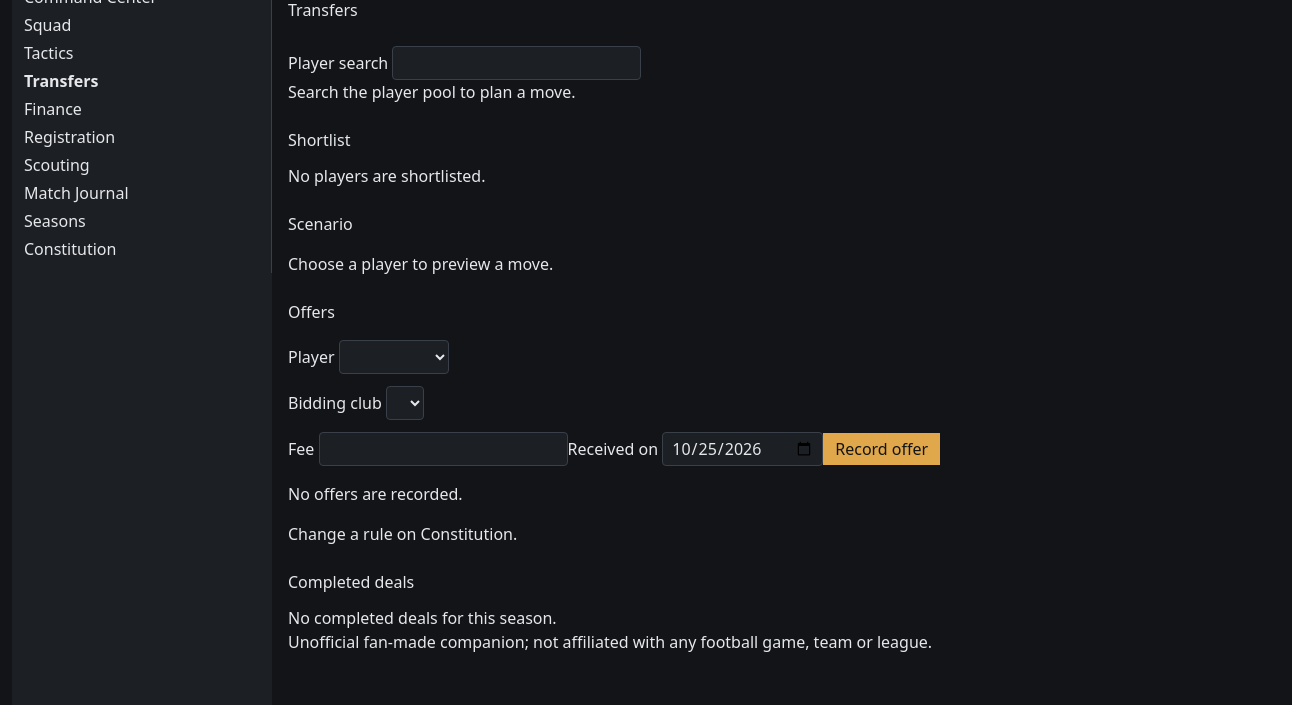
it: transfer scenario screen › blocks an incoming fee above capacity and does not record it
The image size is (1292, 705).
Type "ni" into the field labelled "Player search" at x=517, y=63, box x1=392 y1=46 x2=641 y2=80
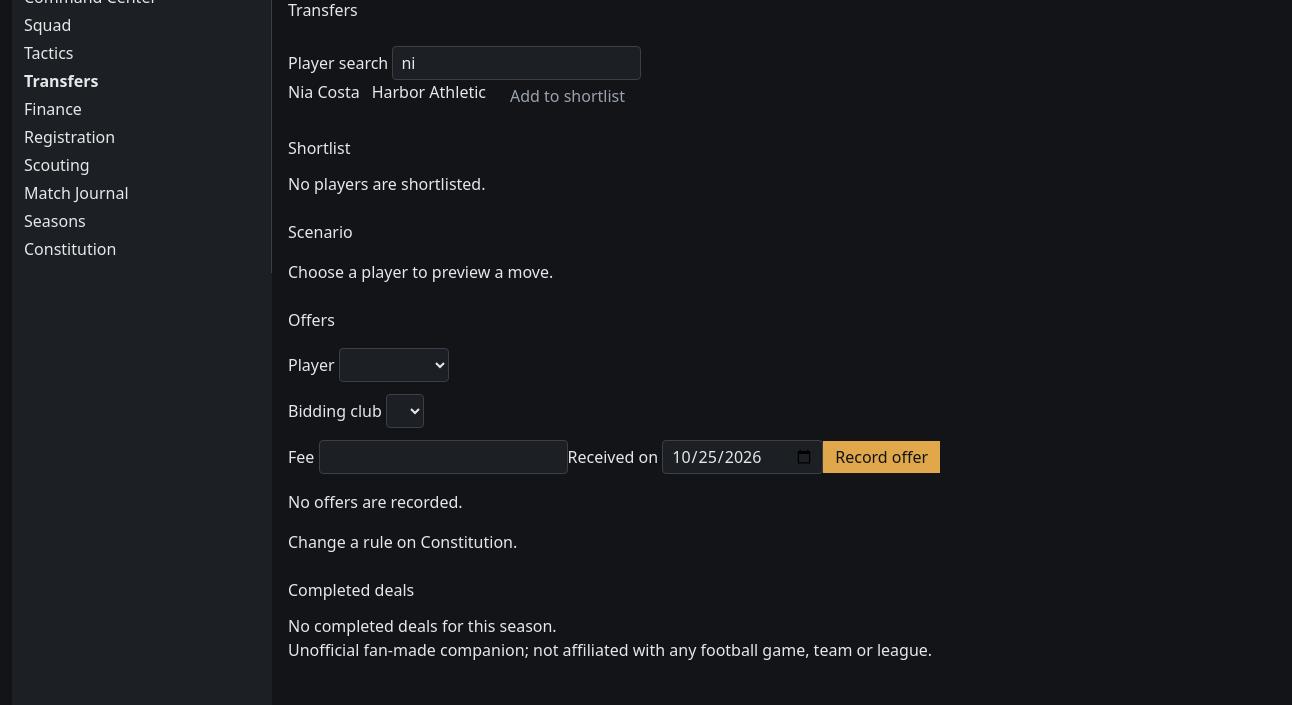
Click the button "Add to shortlist" at x=568, y=96, box x1=498 y1=80 x2=637 y2=112
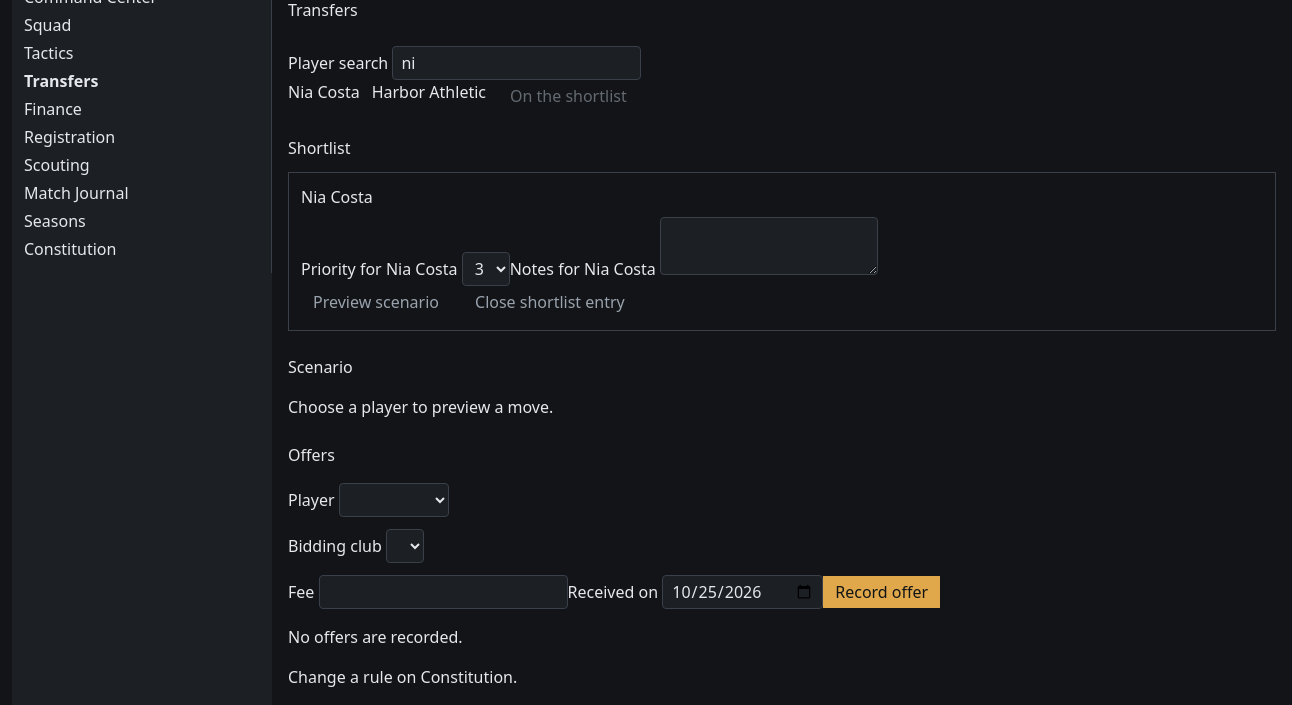
Click the button "Preview scenario" at x=376, y=302, box x1=301 y1=286 x2=451 y2=318
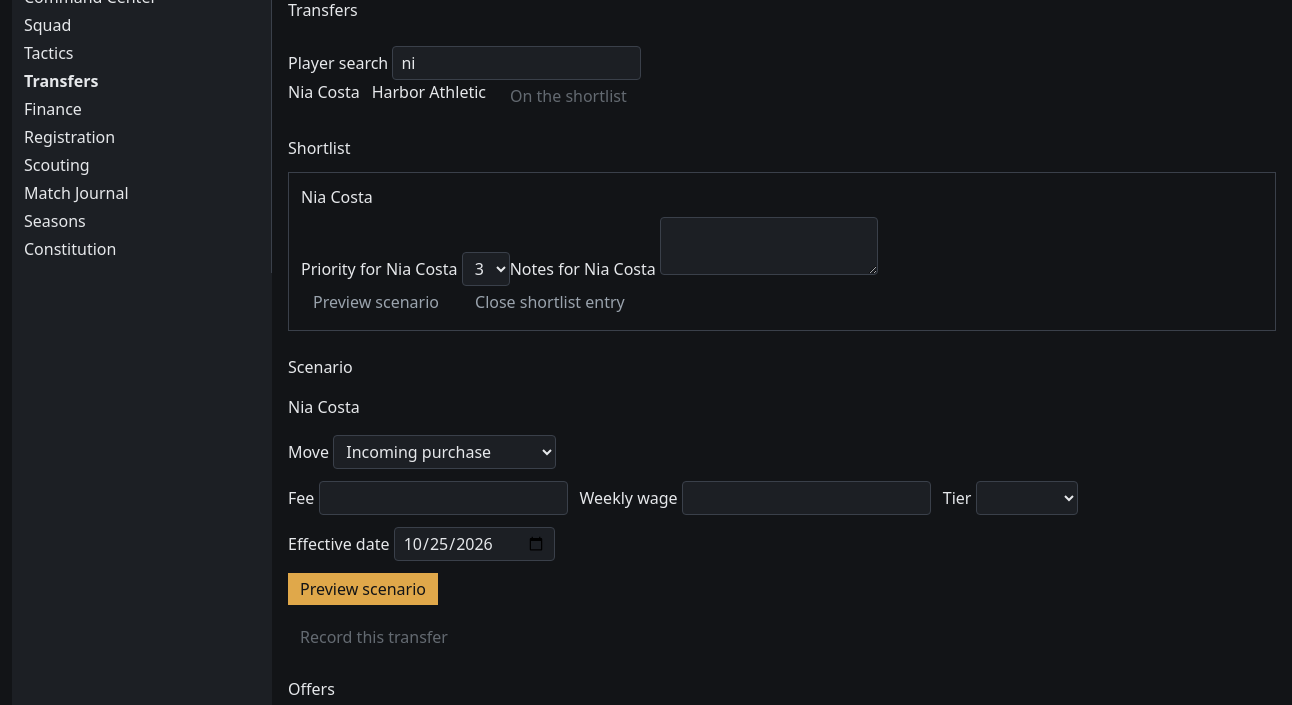
Type "6000000" into the field labelled "Fee" at x=443, y=498, box x1=318 y1=481 x2=568 y2=515
Type "10000" into the field labelled "Weekly wage" at x=806, y=498, box x1=682 y1=481 x2=931 y2=515
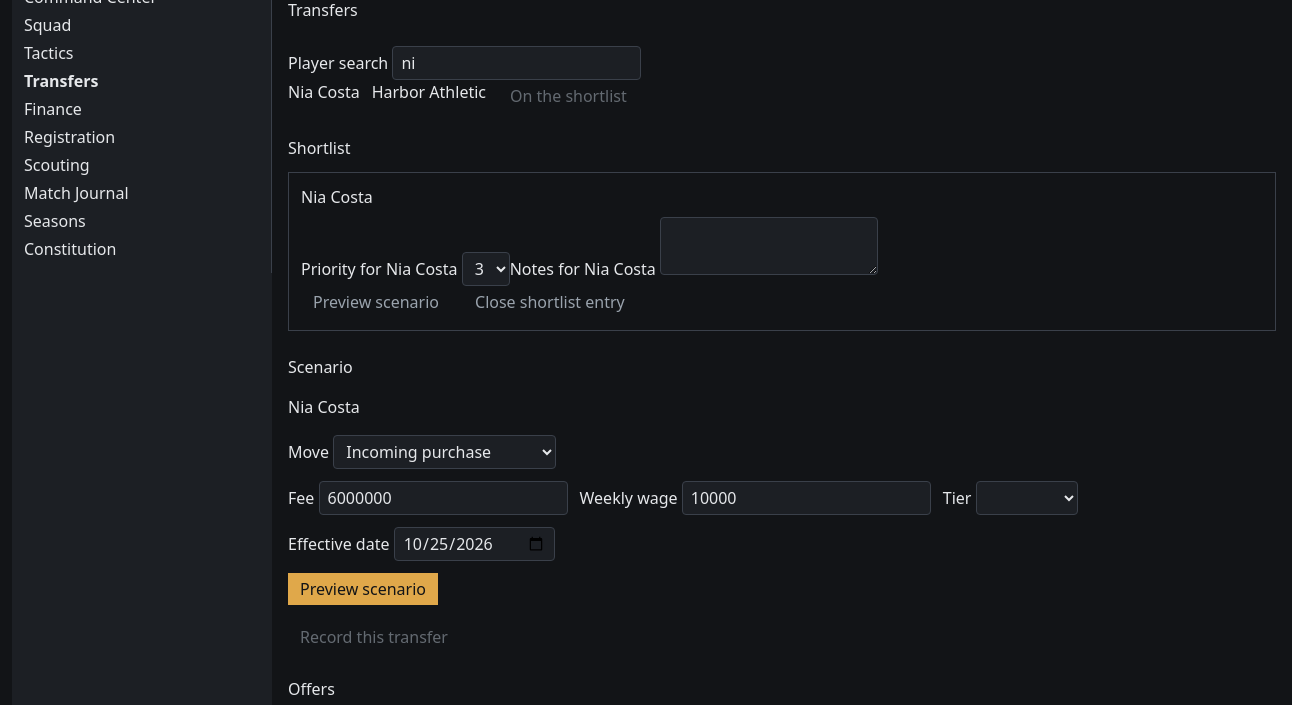
Select "Rotation" in the dropdown labelled "Tier" at x=1027, y=498, box x1=976 y1=481 x2=1078 y2=515
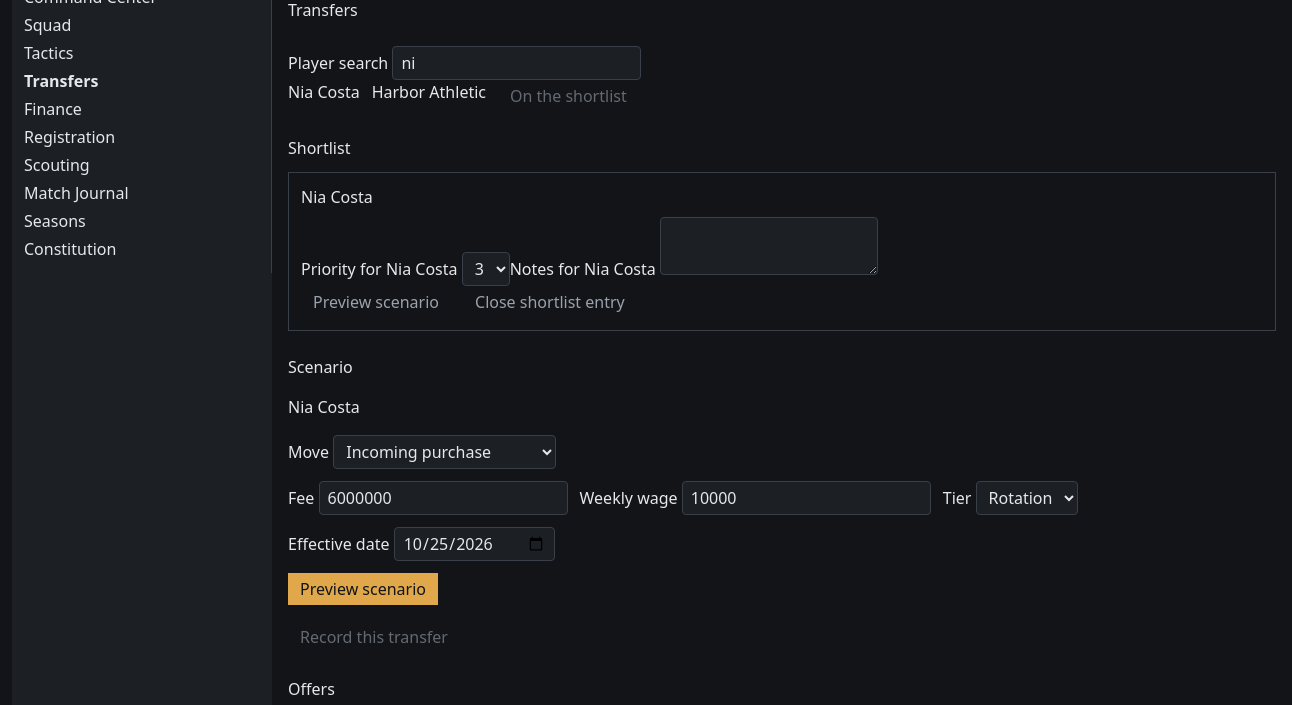
Click the button "Preview scenario" below "Effective date" at x=363, y=589, box x1=288 y1=573 x2=438 y2=605
(page scrolled)
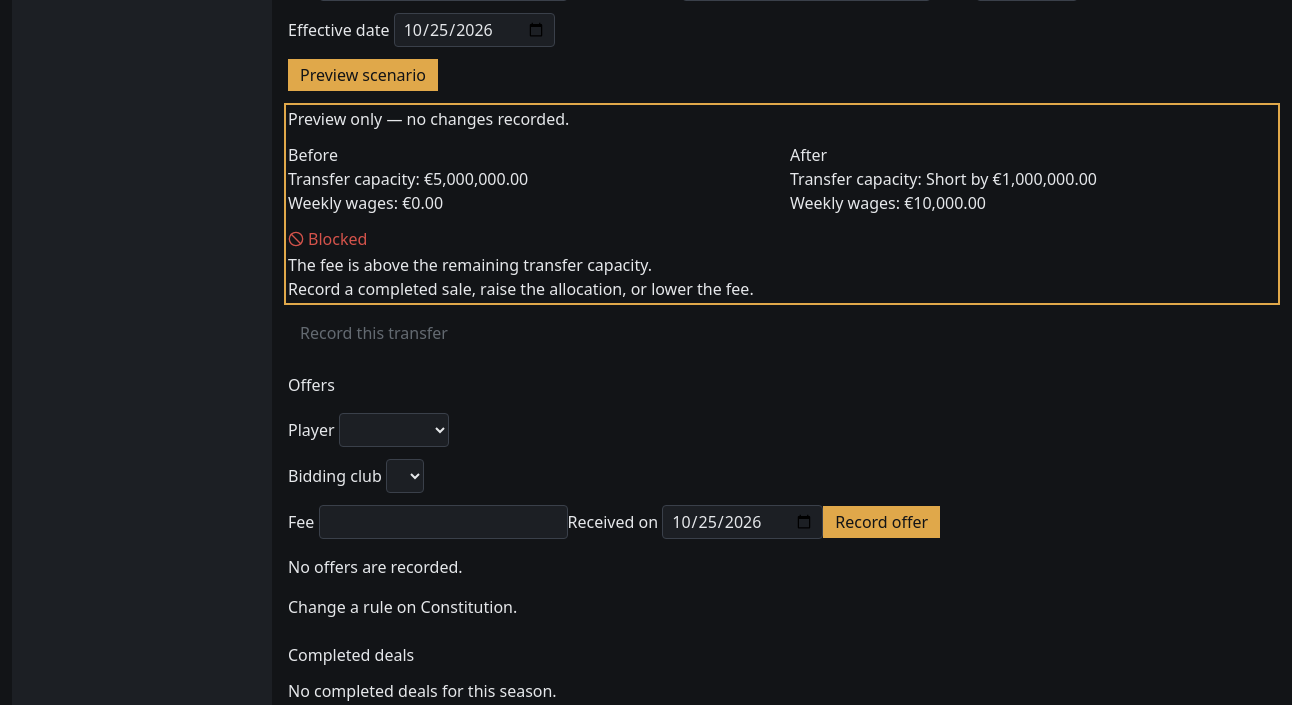
Expected: the text "Blocked" is shown, x1=288 y1=227 x2=367 y2=251
Expected: the text "The fee is above the remaining transfer capacity." is shown, x1=288 y1=254 x2=652 y2=276
Expected: the text "Preview only — no changes recorded." is shown, x1=288 y1=108 x2=569 y2=130
